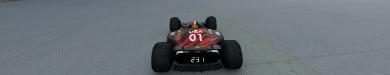Car: (150, 15, 243, 72)
